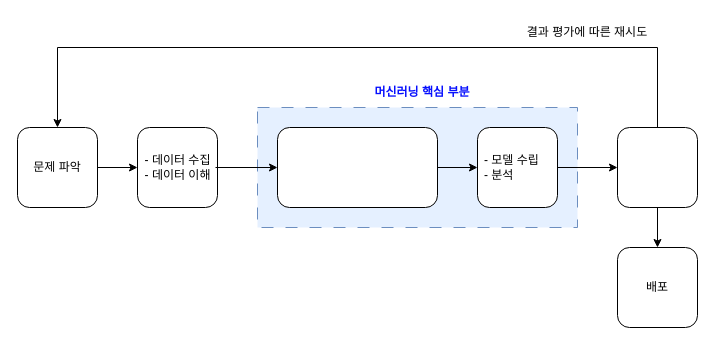
The diagram is 715 pixels wide and 345 high, and some of its shapes have lost their labels. The centre of each missing label's shape, as x and y in pixels:
"- 데이터 준비 (전처리) - 특징 추출" goes at point 357,167.
"모델 평가" goes at point 657,167.
